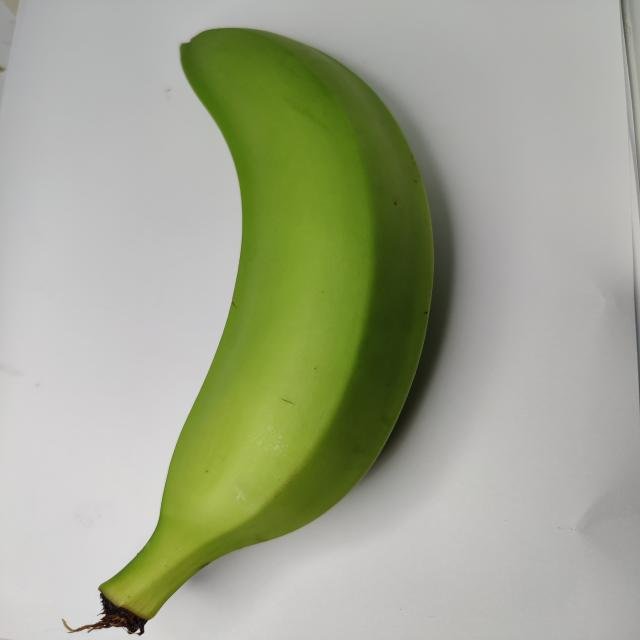raw: (92, 9, 458, 636)
